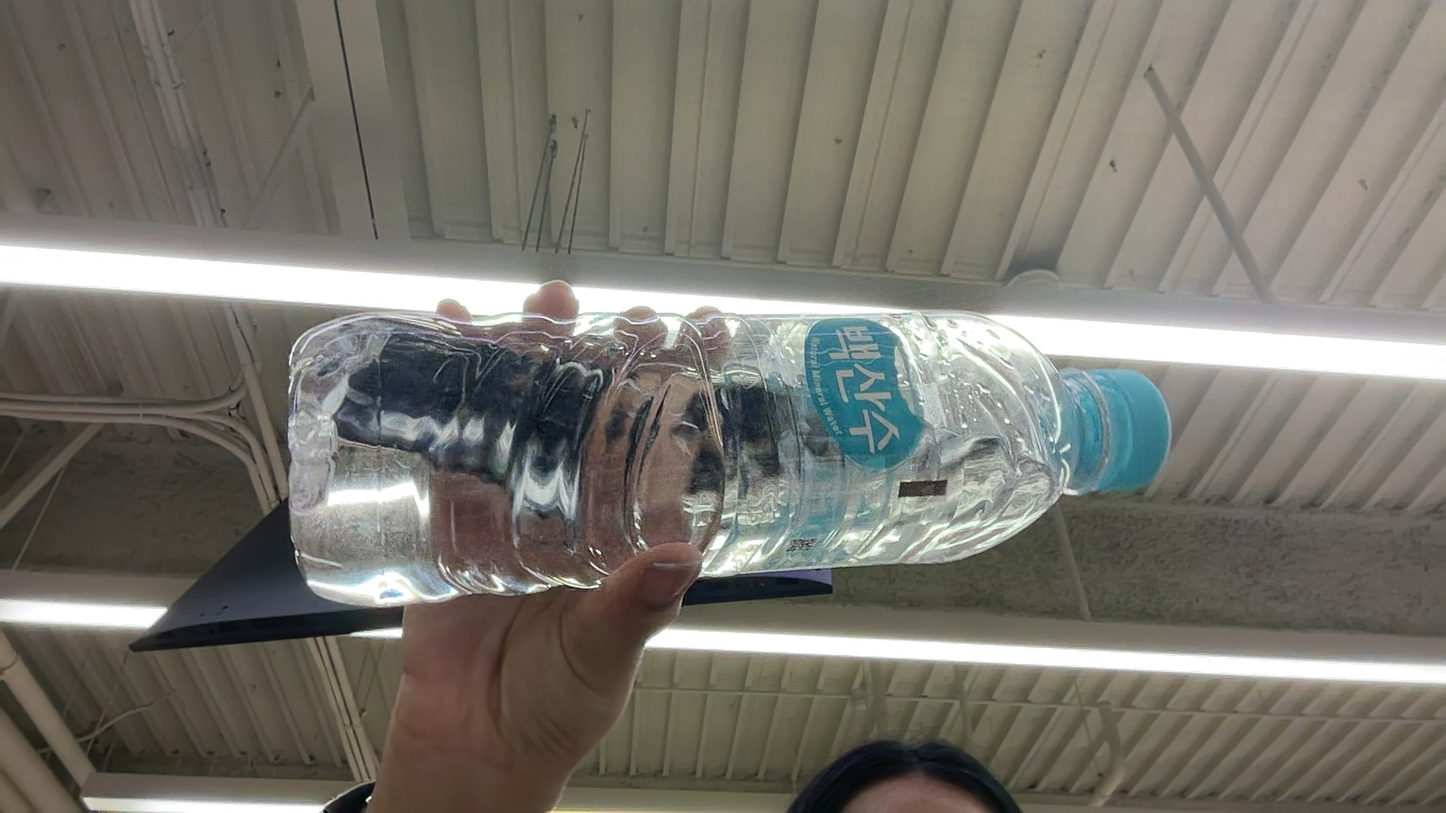Plastic: (3, 406, 274, 606)
